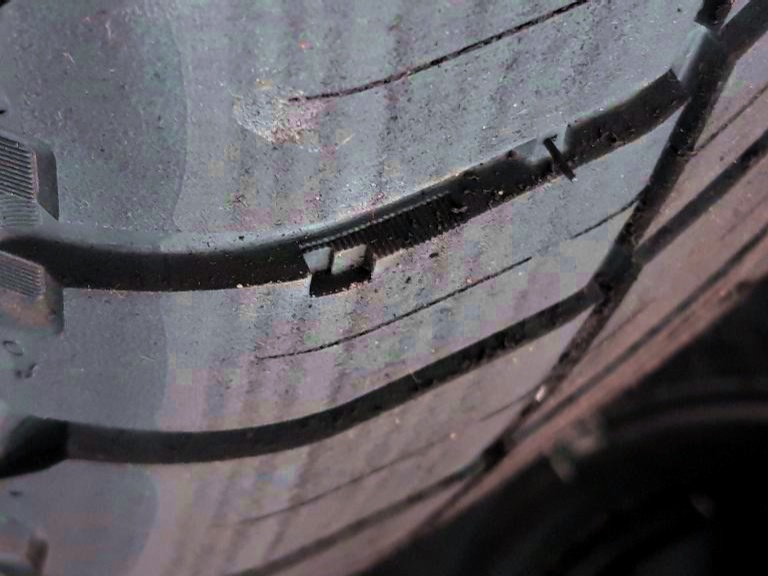temoin:50: (292, 214, 421, 310)
